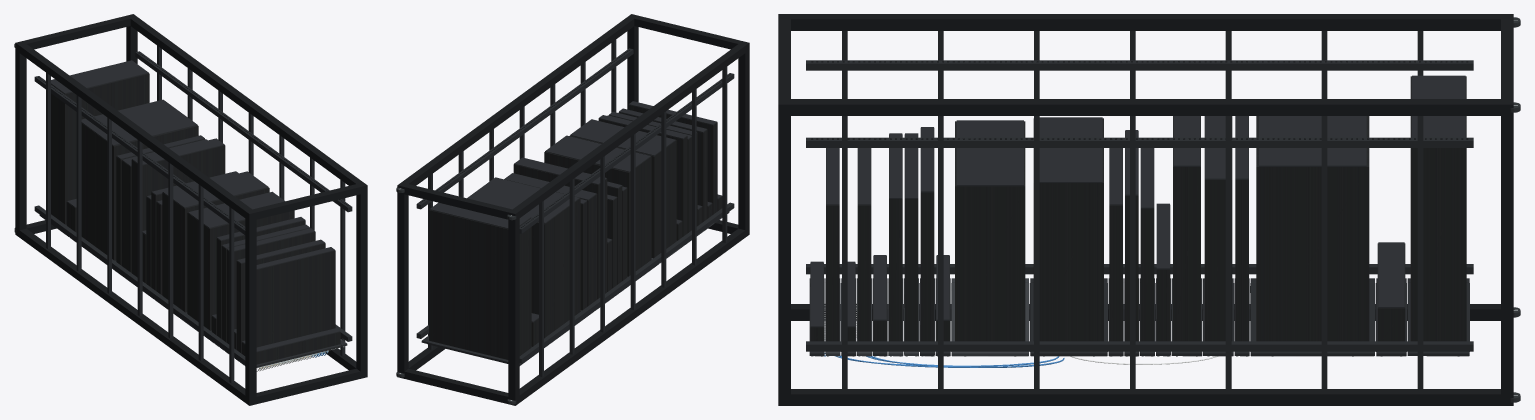
File: juniper-core-42u.glb
The picture shows the model from 3 angles, left to right: view 1: azimuth 30°, elevation 25°; view 2: azimuth 150°, elevation 25°; view 3: azimuth 270°, elevation 25°; orthographic projection. The views are drawn at different scales.
Visible parts, largest first — view 1: RACK_FRAME__nexus_black_dark, SIDE_BRACES__nexus_black, EX4400_48MP__steel_textured, MOUNTING_RAILS__nexus_black, JUNIPER_UPS__steel_textured, MX480__steel_textured, EX9204__steel_textured, QFX10002_60C__steel_textured, MX240__steel_textured, MX480__juniper_graphite_dark, MX240__juniper_graphite_dark, JUNIPER_UPS__juniper_graphite_dark (+20 smaller); view 2: RACK_FRAME__nexus_black_dark, JUNIPER_UPS__steel_textured, SIDE_BRACES__nexus_black, MOUNTING_RAILS__nexus_black, MX480__steel_textured, MX240__steel_textured, EX9204__steel_textured, MX480__juniper_graphite_dark, QFX10002_60C__steel_textured, EX9204__juniper_graphite_dark, MX240__juniper_graphite_dark, QFX5220_32CD__steel_textured (+15 smaller); view 3: RACK_FRAME__nexus_black_dark, MOUNTING_RAILS__nexus_black, MX480__steel_textured, SIDE_BRACES__nexus_black, EX9204__steel_textured, MX240__steel_textured, JUNIPER_UPS__steel_textured, QFX10002_60C__steel_textured, MX480__juniper_graphite_dark, MX304__steel_textured, EX9204__juniper_graphite_dark, MX240__juniper_graphite_dark (+34 smaller).
Part boxes in pixels (bbox=[...]): RACK_FRAME__nexus_black_dark: bbox=[15, 14, 367, 405]; SIDE_BRACES__nexus_black: bbox=[46, 45, 345, 383]; EX4400_48MP__steel_textured: bbox=[256, 250, 335, 347]; MOUNTING_RAILS__nexus_black: bbox=[34, 51, 352, 364]; JUNIPER_UPS__steel_textured: bbox=[51, 73, 149, 224]; MX480__steel_textured: bbox=[81, 123, 198, 260]; EX9204__steel_textured: bbox=[187, 210, 294, 330]; QFX10002_60C__steel_textured: bbox=[131, 145, 225, 277]; MX240__steel_textured: bbox=[162, 187, 269, 312]; MX480__juniper_graphite_dark: bbox=[81, 99, 197, 145]; MX240__juniper_graphite_dark: bbox=[163, 171, 268, 208]; JUNIPER_UPS__juniper_graphite_dark: bbox=[51, 60, 148, 93]; RACK_FRAME__nexus_black_dark: bbox=[397, 14, 749, 405]; JUNIPER_UPS__steel_textured: bbox=[429, 210, 531, 359]; SIDE_BRACES__nexus_black: bbox=[428, 39, 727, 376]; MOUNTING_RAILS__nexus_black: bbox=[416, 48, 734, 363]; MX480__steel_textured: bbox=[531, 198, 580, 338]; MX240__steel_textured: bbox=[544, 152, 651, 276]; EX9204__steel_textured: bbox=[569, 135, 676, 258]; MX480__juniper_graphite_dark: bbox=[467, 177, 579, 223]; QFX10002_60C__steel_textured: bbox=[513, 164, 607, 299]; EX9204__juniper_graphite_dark: bbox=[570, 119, 675, 155]; MX240__juniper_graphite_dark: bbox=[545, 135, 650, 172]; QFX5220_32CD__steel_textured: bbox=[598, 119, 687, 236]; RACK_FRAME__nexus_black_dark: bbox=[778, 14, 1513, 405]; MOUNTING_RAILS__nexus_black: bbox=[806, 60, 1473, 351]; MX480__steel_textured: bbox=[1256, 116, 1369, 341]; SIDE_BRACES__nexus_black: bbox=[842, 31, 1423, 392]; EX9204__steel_textured: bbox=[955, 121, 1025, 341]; MX240__steel_textured: bbox=[1033, 118, 1103, 341]; JUNIPER_UPS__steel_textured: bbox=[1410, 76, 1466, 341]; QFX10002_60C__steel_textured: bbox=[1173, 116, 1200, 341]; MX480__juniper_graphite_dark: bbox=[1259, 116, 1366, 166]; MX304__steel_textured: bbox=[1204, 116, 1232, 341]; EX9204__juniper_graphite_dark: bbox=[956, 120, 1023, 186]; MX240__juniper_graphite_dark: bbox=[1039, 117, 1102, 182].
Bounding box in the file's own units: 0.609 × 0.9399 × 2.1.
Materials: 27 (4 with a texture image).
